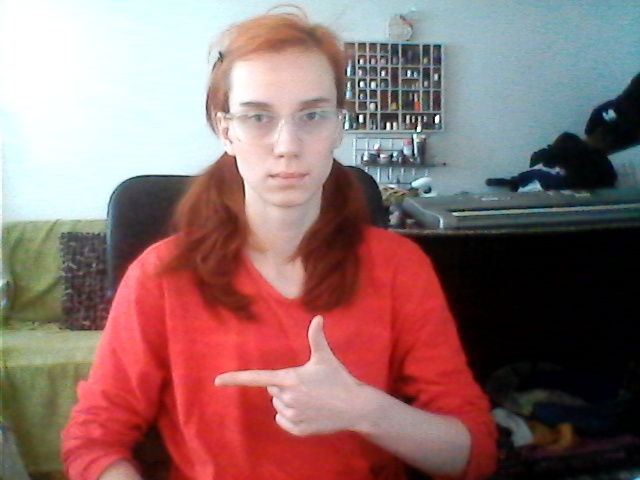dva_dve: (206, 312, 369, 443)
